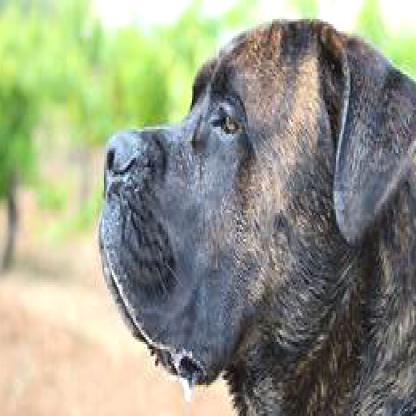dog: (96, 16, 415, 414)
